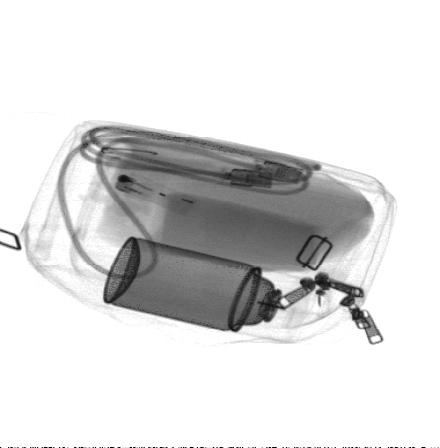Lighter: (113, 168, 196, 216)
Sprayer: (104, 237, 316, 346)
